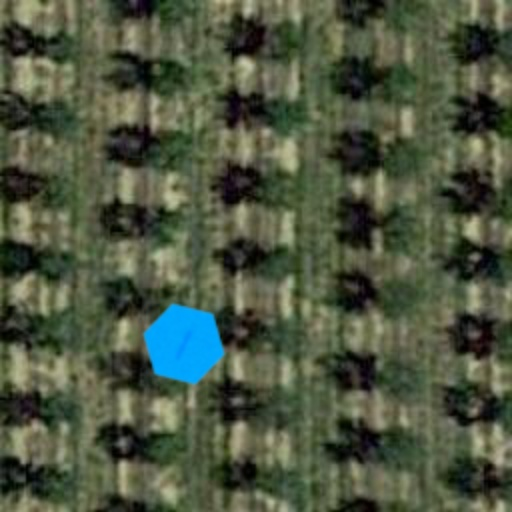hexagon: (132, 292, 236, 396)
